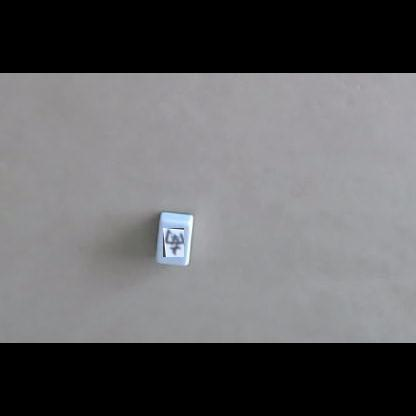2z: (163, 228, 184, 257)
